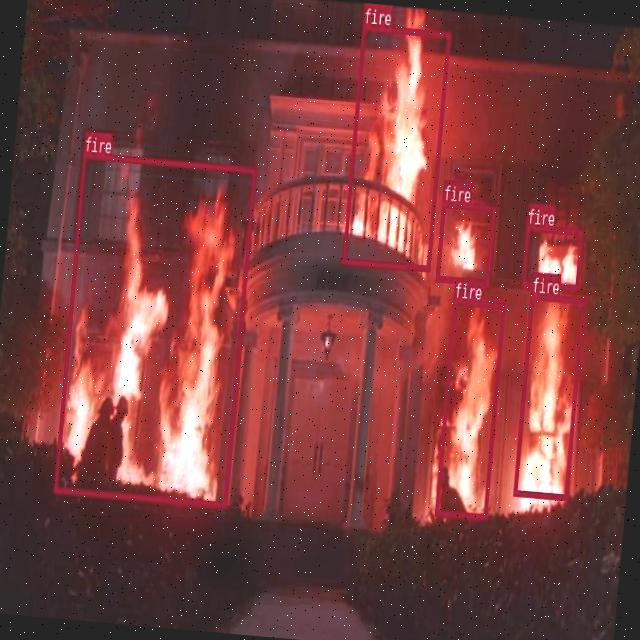fire: (53, 151, 256, 507), (342, 23, 449, 270), (434, 297, 504, 518), (512, 292, 584, 499), (435, 200, 495, 284), (520, 223, 582, 290)
